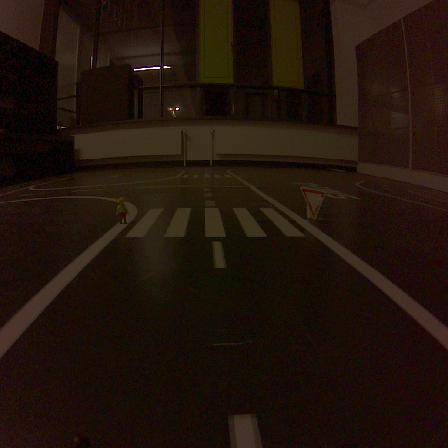CHILD: (117, 197, 128, 223)
GIVE_WAY: (300, 186, 324, 218)
